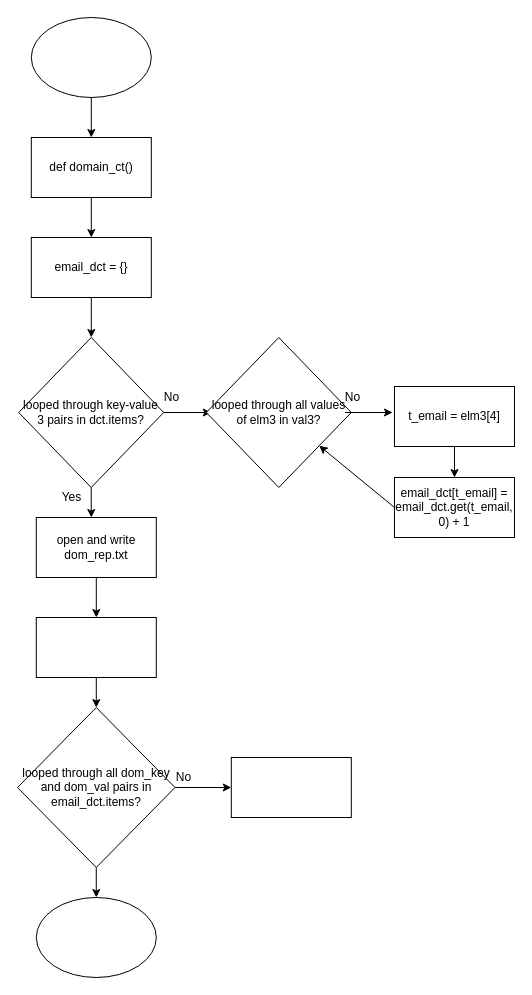
The diagram is 532 pixels wide and 995 high, and some of its shapes have lost their labels. The shapes that lost their labels are listed below. From the top down, each one's centre as x and y in pixels, then its label:
point 90,57: Start
point 95,647: write "Domain Count ({len(email_dct_} domains)" title
point 290,787: write {dom_key}{dom_val}
point 95,937: End
